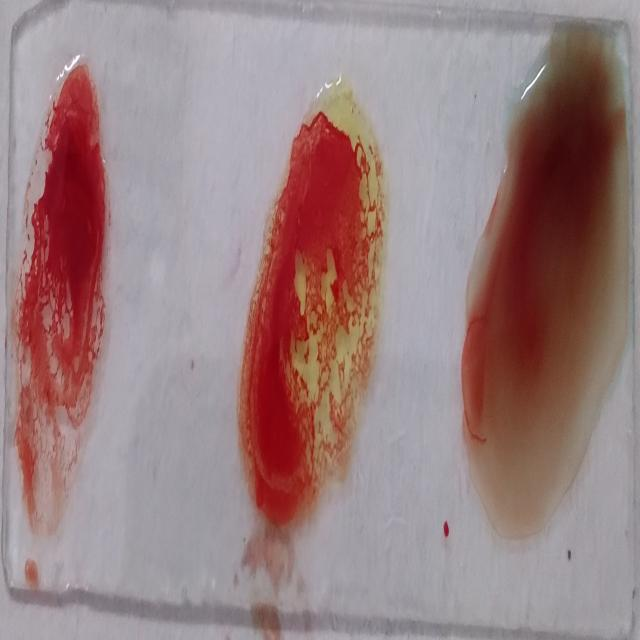B: (238, 62, 384, 539)
D: (18, 51, 106, 541)
